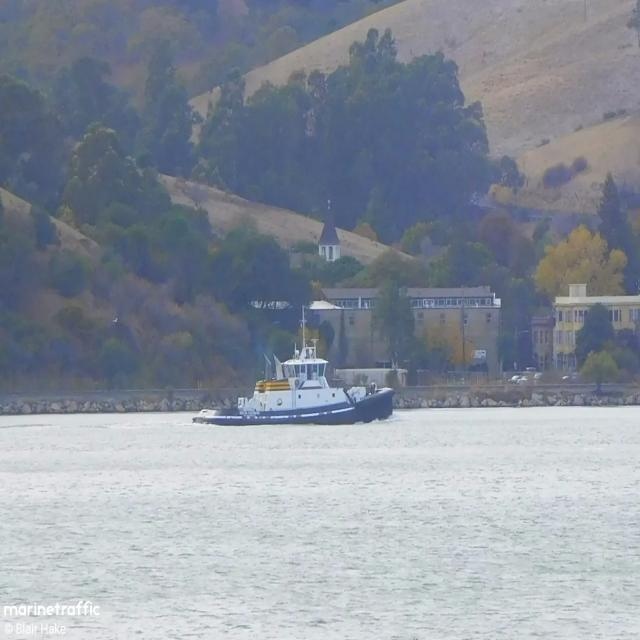Tug: (193, 306, 394, 425)
